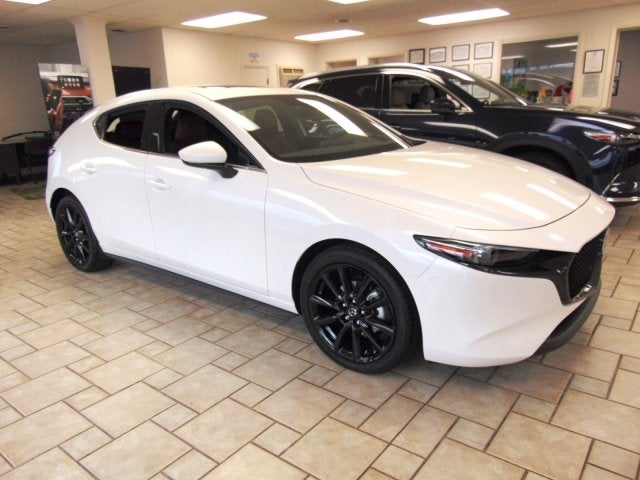Mazda3 Hatchback: (45, 86, 617, 374)
